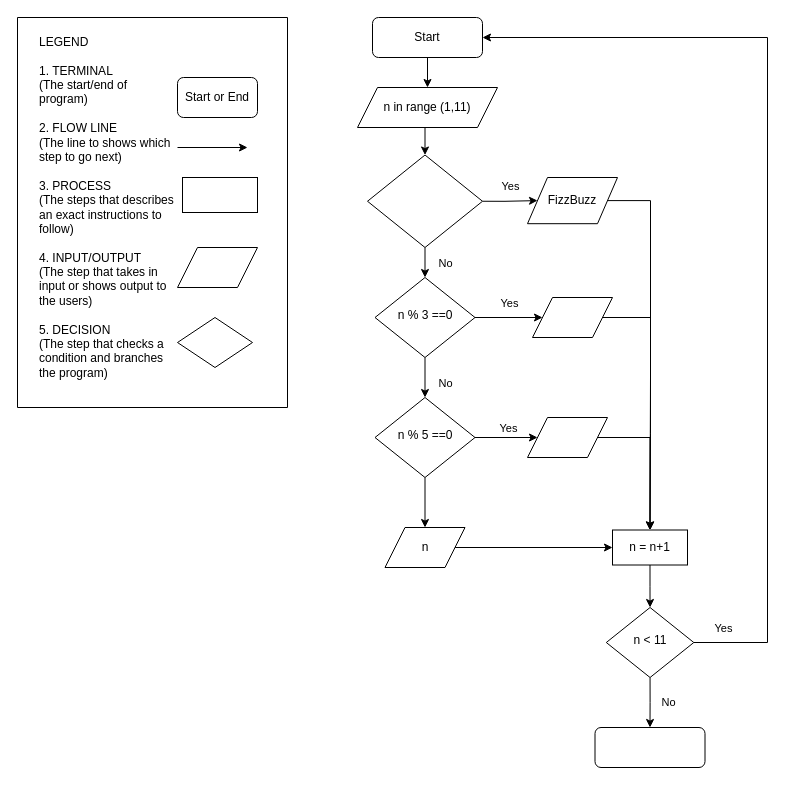
Image size: 793x785. Some labels were removed from this diagram. The shapes that lost their labels are listed below. From the top down, each one's centre as x and y in pixels, then its label:
point 424,201: n % 3==0 and n % 5 == 0
point 572,317: Fizz
point 567,437: Buzz
point 649,747: End
